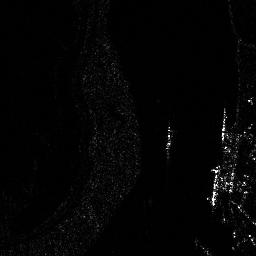ship: (209, 164, 223, 208), (219, 107, 228, 144)
